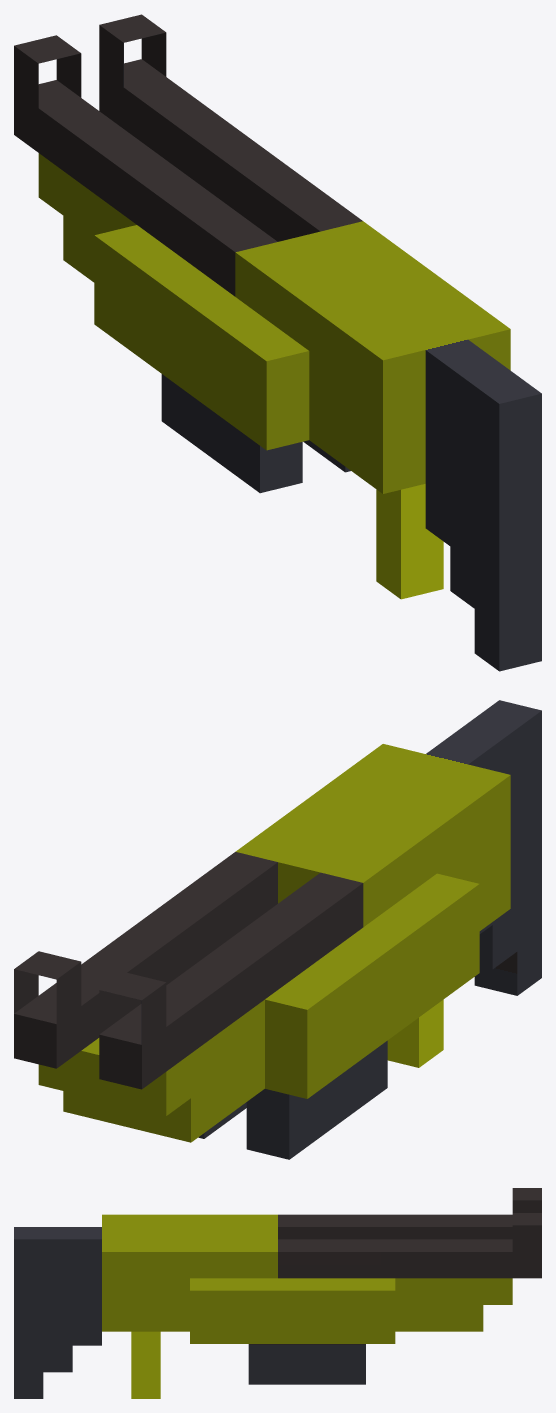
File: bgun.gltf
3 renders of one model, top to bottom at view 1: azimuth 30°, elevation 25°; view 2: azimuth 150°, elevation 25°; view 3: azimuth 270°, elevation 25°, orthographic. The views are drawn at different scales.
Parts seen in each view (by area): view 1: cube (×20); view 2: cube (×19); view 3: cube (×18).
Part boxes in pixels (box(x1,y1,x2,y2)): cube (×20): box(14, 14, 541, 671); cube (×19): box(14, 700, 541, 1159); cube (×18): box(14, 1188, 541, 1398).
Bounding box in the file's own units: 0.0195 × 0.0273 × 0.0703.
1 material, 1 textured.
